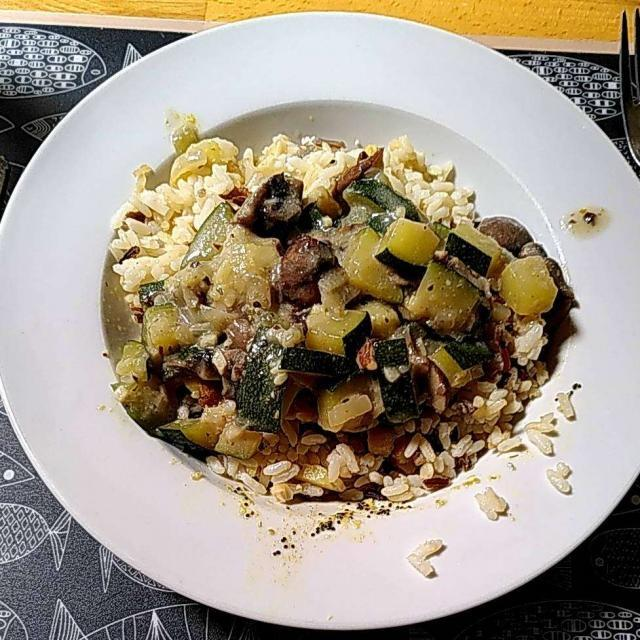rice: (102, 139, 538, 482)
zucchini: (122, 168, 574, 456)
